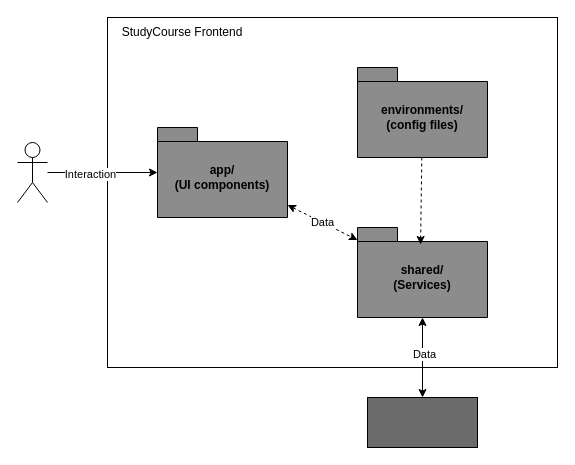
This 575x465 diagram has some shape labels left out. The centre of each missing label's shape, as x and y in pixels:
StudyBase Backend: point 422,422
User: point 32,172
